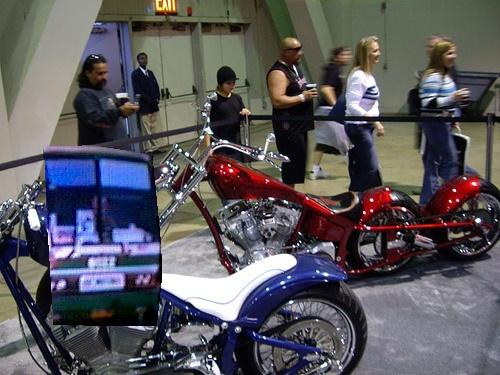tampered: (45, 146, 162, 326)
